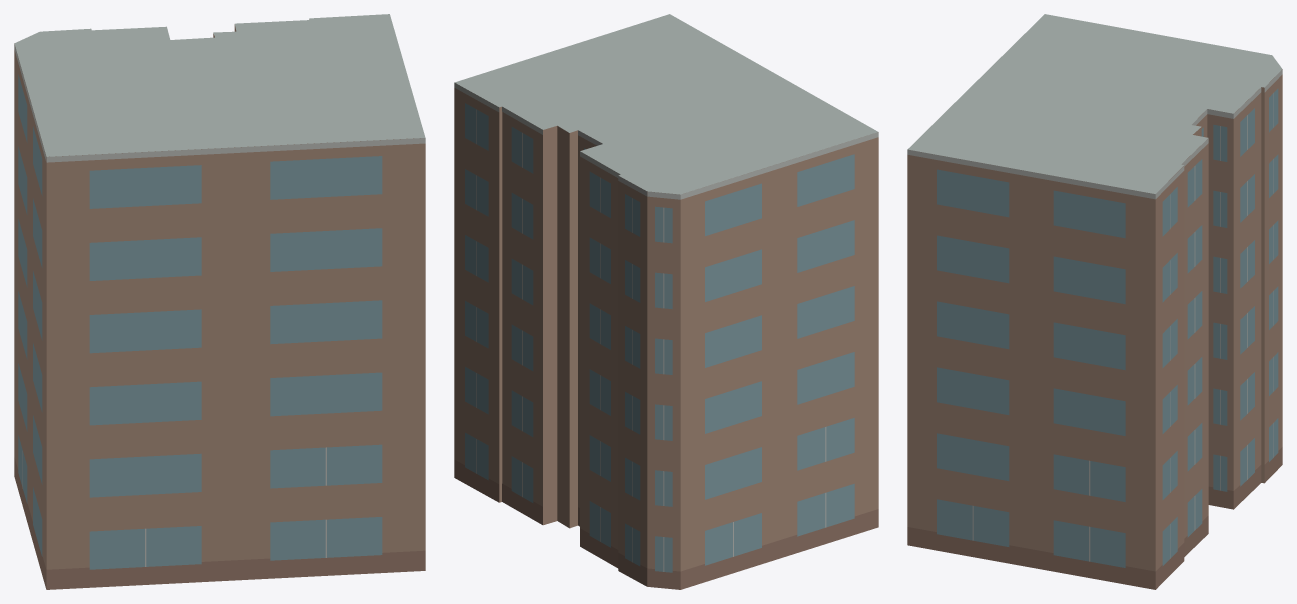
The model's file is survey-upis-32532354.glb.
3 views of the same model, side by side, from view 1: azimuth 30°, elevation 25°; view 2: azimuth 150°, elevation 25°; view 3: azimuth 270°, elevation 25° (orthographic). The views are drawn at different scales.
Visible parts, largest first — view 1: survey-upis-32532354.tmp; view 2: survey-upis-32532354.tmp; view 3: survey-upis-32532354.tmp.
Boxes of the visible parts, left/top/right/bottom form: survey-upis-32532354.tmp: left=14, top=14, right=425, bottom=589; survey-upis-32532354.tmp: left=454, top=14, right=878, bottom=589; survey-upis-32532354.tmp: left=907, top=14, right=1282, bottom=589.
Size of the model in its own units: 18.17 by 18.6 by 15.99.
